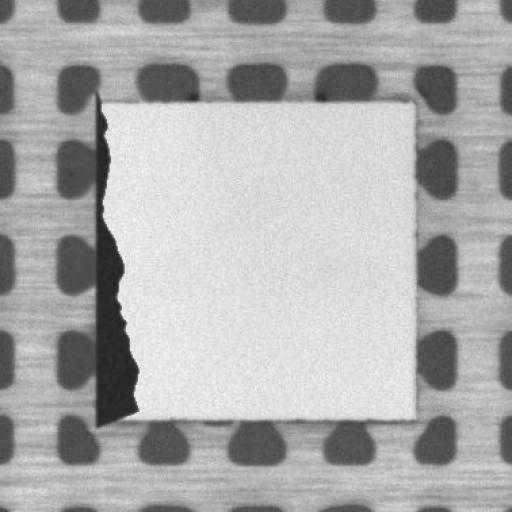DIE_BROKEN: (90, 88, 140, 427)
